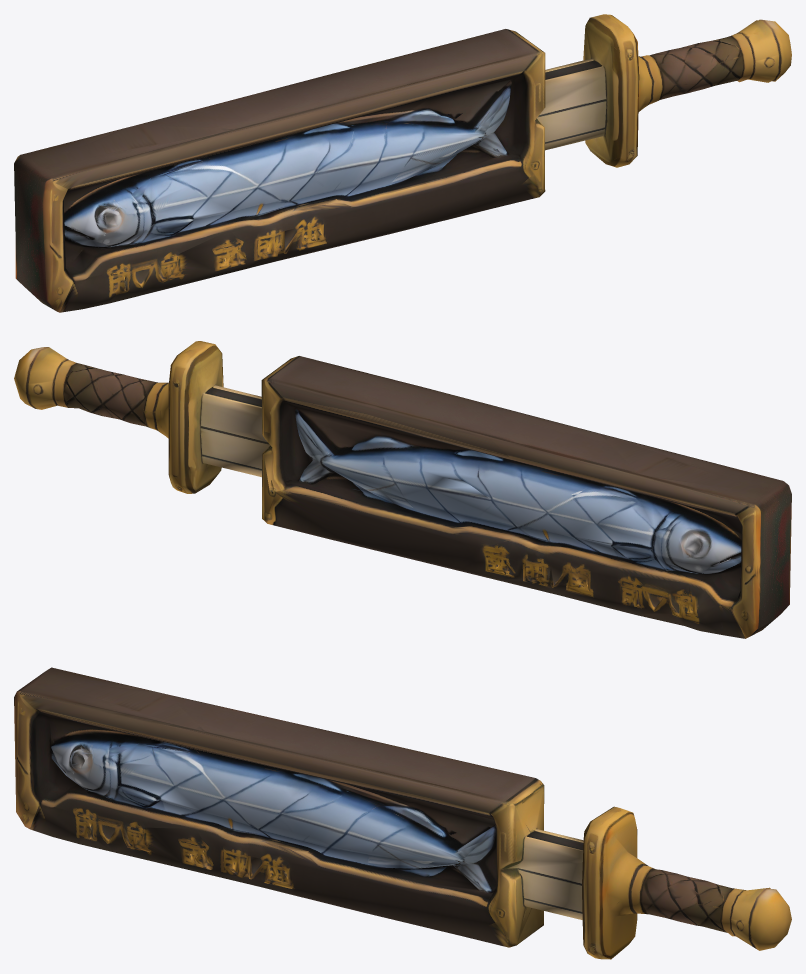
File: 尚方宝剑咸鱼.fbx
3 views of the same model, one above another, from view 1: azimuth 30°, elevation 25°; view 2: azimuth 150°, elevation 25°; view 3: azimuth 330°, elevation 25° (orthographic).
Visible parts, largest first — view 1: tripo_node_c9bdbdcd; view 2: tripo_node_c9bdbdcd; view 3: tripo_node_c9bdbdcd.
Boxes of the visible parts, box(x1,y1,x2,y2) form: tripo_node_c9bdbdcd: box(14, 14, 791, 312); tripo_node_c9bdbdcd: box(14, 341, 791, 638); tripo_node_c9bdbdcd: box(14, 667, 791, 959).
Bounding box in the file's own units: 1 × 0.1892 × 0.0899.
1 material, 1 textured.
